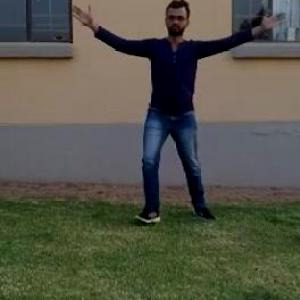takeoff: (65, 0, 258, 204)
